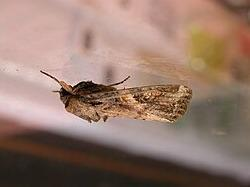army worm adult: (39, 67, 196, 127)
